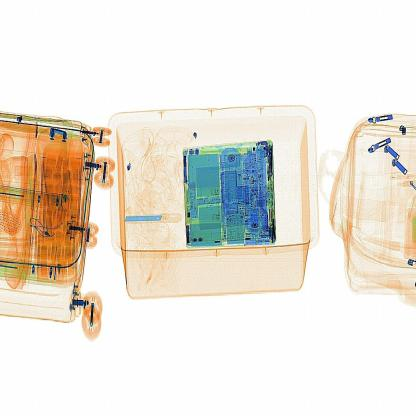pliers: (123, 209, 185, 234)
